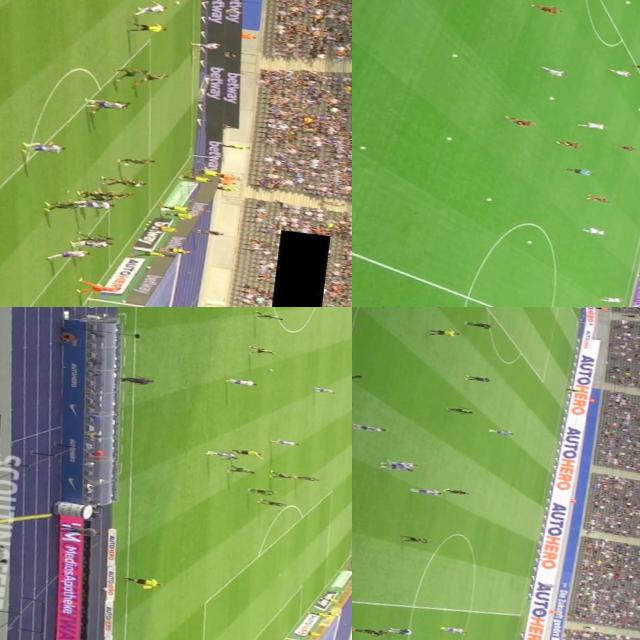ball: (171, 0, 184, 5), (358, 144, 366, 150), (266, 368, 274, 373), (444, 136, 452, 140), (450, 54, 456, 59), (524, 240, 530, 245), (485, 198, 491, 202), (546, 96, 552, 100), (622, 0, 628, 4), (635, 107, 640, 111)
player: (14, 137, 67, 158), (72, 278, 119, 298), (41, 197, 84, 216), (46, 246, 91, 264), (110, 64, 148, 84), (87, 98, 129, 116), (82, 98, 128, 113), (96, 187, 138, 203), (130, 0, 167, 18), (74, 198, 116, 213), (115, 154, 156, 169), (132, 69, 166, 87), (72, 237, 114, 251), (82, 192, 120, 206), (105, 178, 148, 190), (100, 176, 142, 188), (78, 186, 113, 200), (190, 38, 220, 54), (352, 624, 390, 636), (78, 234, 114, 246), (408, 486, 443, 498), (399, 534, 434, 546), (459, 320, 493, 332), (246, 345, 278, 357), (501, 115, 534, 126), (259, 498, 290, 509), (526, 3, 560, 13), (202, 450, 236, 460), (384, 458, 418, 468), (576, 120, 608, 130), (253, 311, 285, 321), (226, 378, 258, 388), (352, 424, 384, 434), (381, 626, 413, 636), (382, 460, 412, 470), (440, 486, 470, 496), (436, 625, 466, 635), (538, 65, 565, 76), (486, 427, 513, 438), (227, 466, 256, 476), (463, 374, 492, 384), (584, 194, 608, 204), (581, 227, 606, 236), (270, 472, 295, 481), (293, 473, 318, 482), (314, 386, 336, 396), (553, 140, 580, 148), (248, 488, 274, 496), (446, 407, 471, 415), (268, 439, 296, 446), (606, 68, 628, 76), (599, 296, 617, 304), (614, 144, 634, 150), (352, 369, 362, 380), (628, 63, 640, 69)
